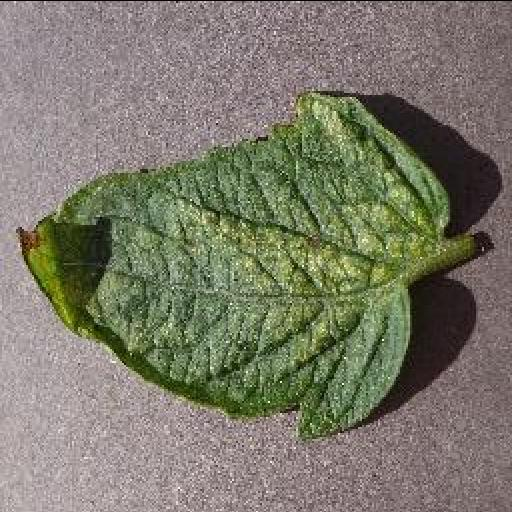disease_tomato: (14, 90, 454, 438)
